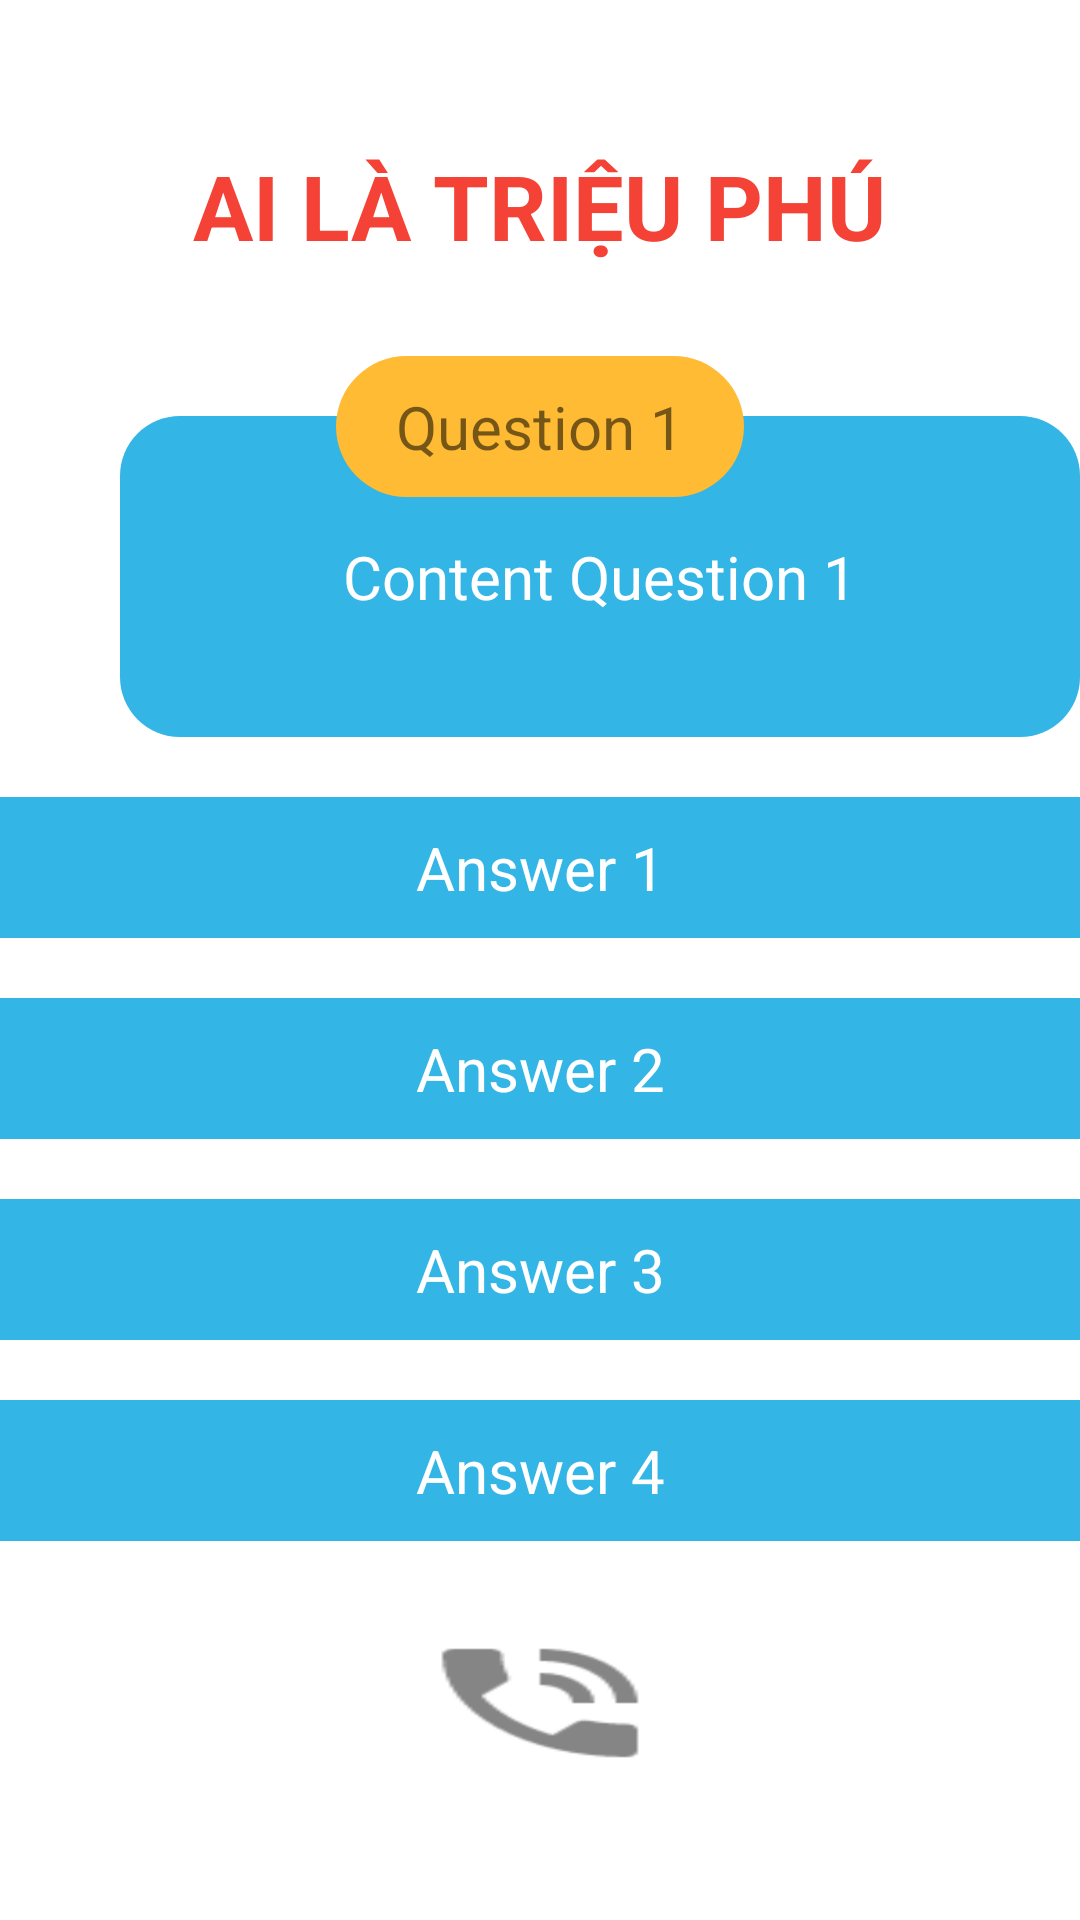

Where to tap for icons on this 1080*1920 app screen, as [x,y]:
goidien: [540,1703]
